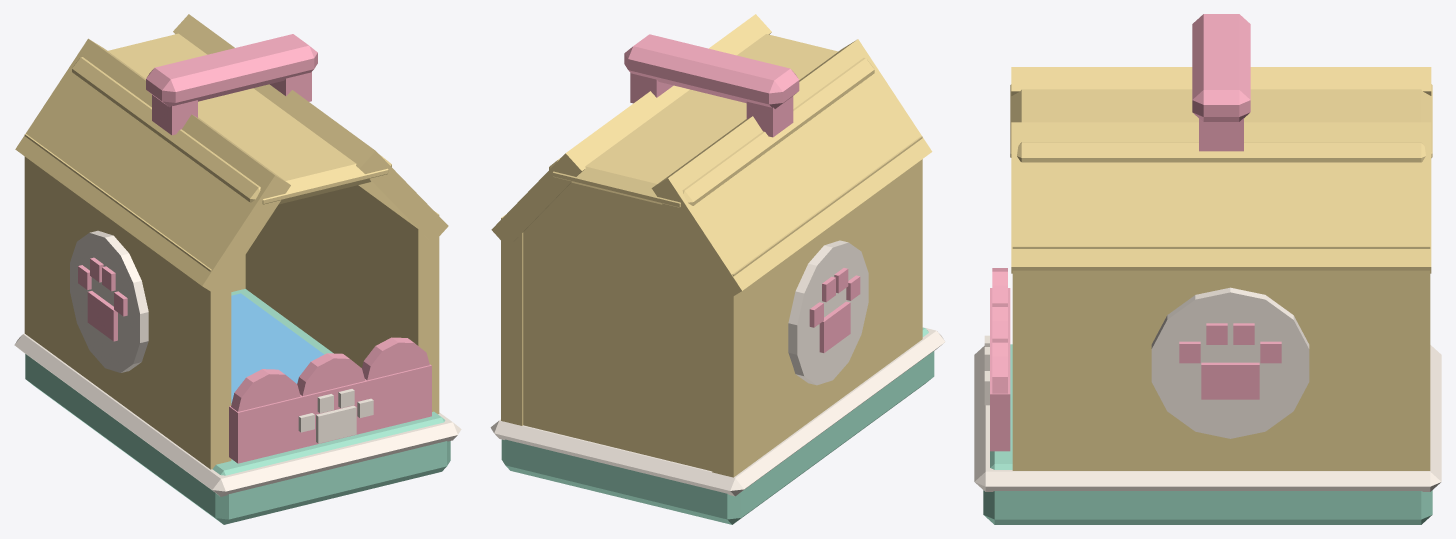
The model's file is CleanACat_Prop_CarrierButter.fbx.
3 renders of one model, left to right at view 1: azimuth 30°, elevation 25°; view 2: azimuth 150°, elevation 25°; view 3: azimuth 270°, elevation 25°, orthographic. The views are drawn at different scales.
Visible parts, largest first — view 1: CleanACat_Prop_CarrierButter, CleanACat_Prop_CarrierButter_Door_Swing; view 2: CleanACat_Prop_CarrierButter; view 3: CleanACat_Prop_CarrierButter, CleanACat_Prop_CarrierButter_Door_Swing.
Part boxes in pixels (left/top/right/bottom): CleanACat_Prop_CarrierButter: left=14, top=14, right=461, bottom=524; CleanACat_Prop_CarrierButter_Door_Swing: left=229, top=337, right=431, bottom=463; CleanACat_Prop_CarrierButter: left=490, top=14, right=945, bottom=524; CleanACat_Prop_CarrierButter: left=974, top=14, right=1441, bottom=524; CleanACat_Prop_CarrierButter_Door_Swing: left=984, top=268, right=1010, bottom=451.
Size of the model in its own units: 1.47 by 2.03 by 2.08.
1 material, 1 textured.
